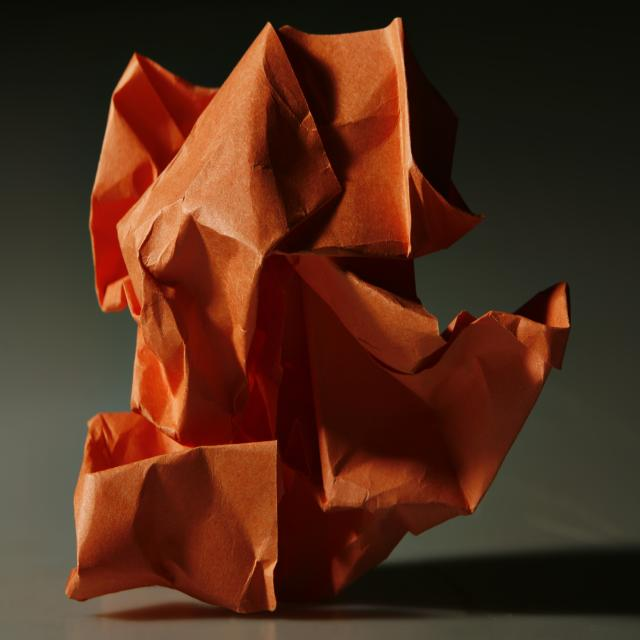paper: (94, 49, 460, 600)
